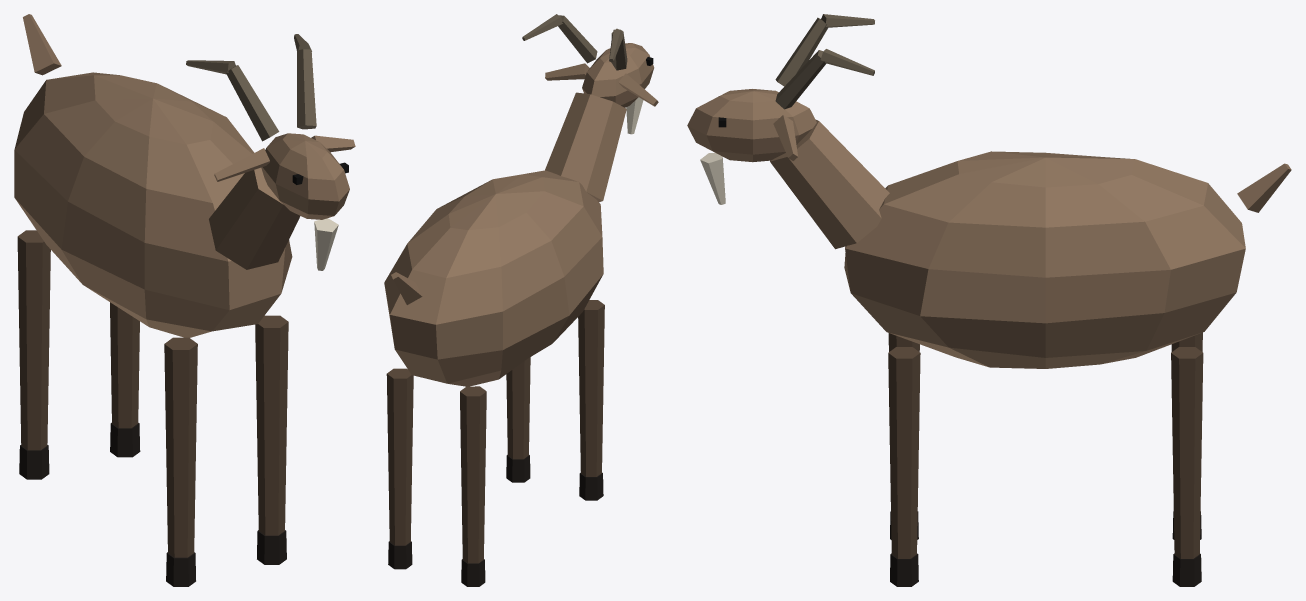
The model's file is Animal_Goat.obj.
The picture shows the model from 3 angles, left to right: view 1: azimuth 30°, elevation 25°; view 2: azimuth 150°, elevation 25°; view 3: azimuth 270°, elevation 25°; orthographic projection. The views are drawn at different scales.
Visible parts, largest first — view 1: Animal_Goat; view 2: Animal_Goat; view 3: Animal_Goat.
Part boxes in pixels (left/top/right/bottom): Animal_Goat: left=14, top=14, right=355, bottom=586; Animal_Goat: left=384, top=14, right=658, bottom=586; Animal_Goat: left=687, top=14, right=1291, bottom=586.
Bounding box in the file's own units: 0.4001 × 1.15 × 1.2.
